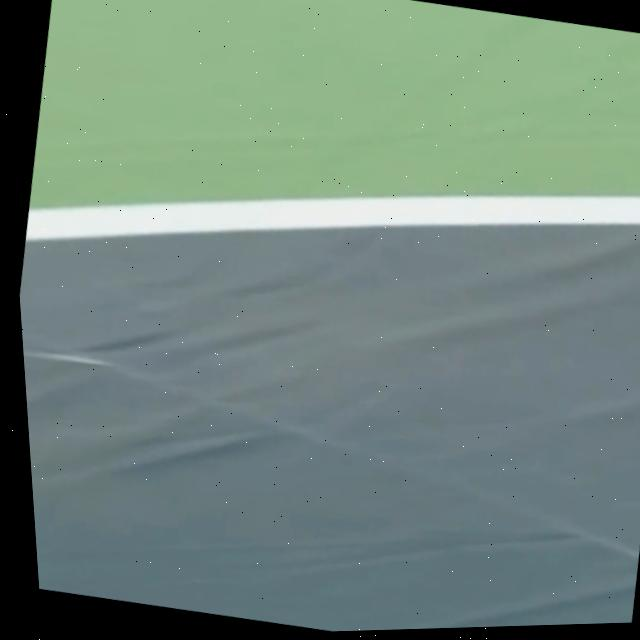right: (25, 195, 640, 239)
